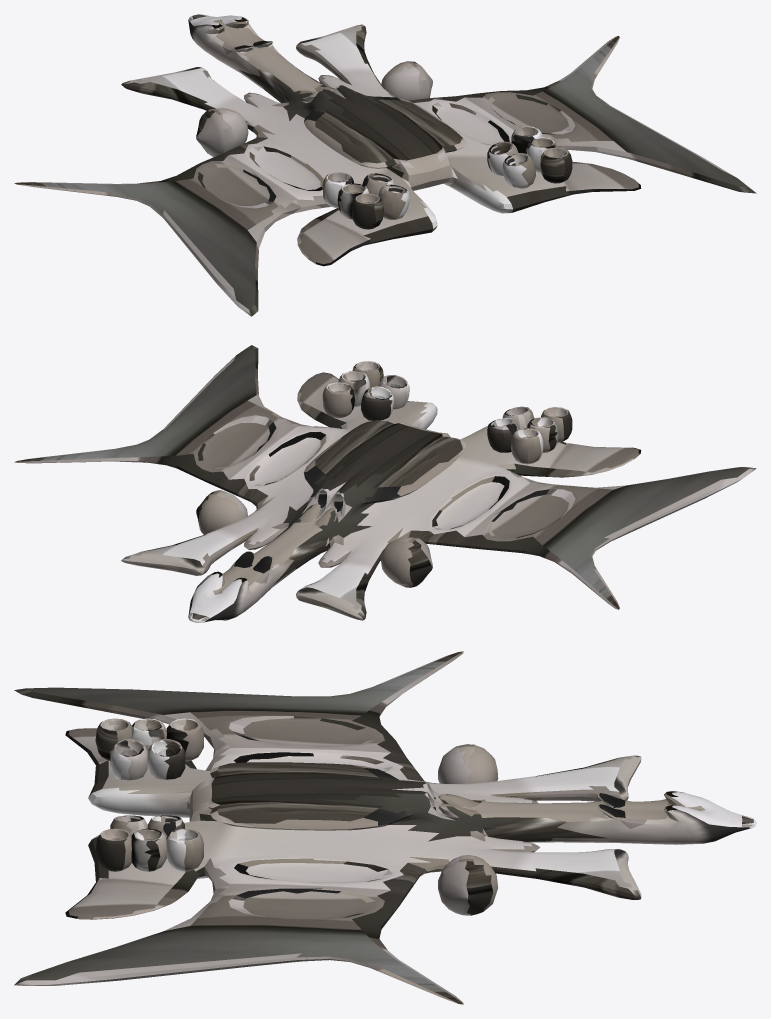
Rendered from Boss.fbx.
3 views of the same model, one above another, from view 1: azimuth 30°, elevation 25°; view 2: azimuth 150°, elevation 25°; view 3: azimuth 270°, elevation 25° (orthographic). The views are drawn at different scales.
Parts seen in each view (by area): view 1: Plane; view 2: Plane; view 3: Plane.
Boxes of the visible parts, x1=… form: Plane: x1=14, y1=14, x2=756, y2=316; Plane: x1=14, y1=345, x2=756, y2=622; Plane: x1=14, y1=651, x2=756, y2=1004.
Size of the model in its own units: 1.53 by 1.36 by 0.1568.
